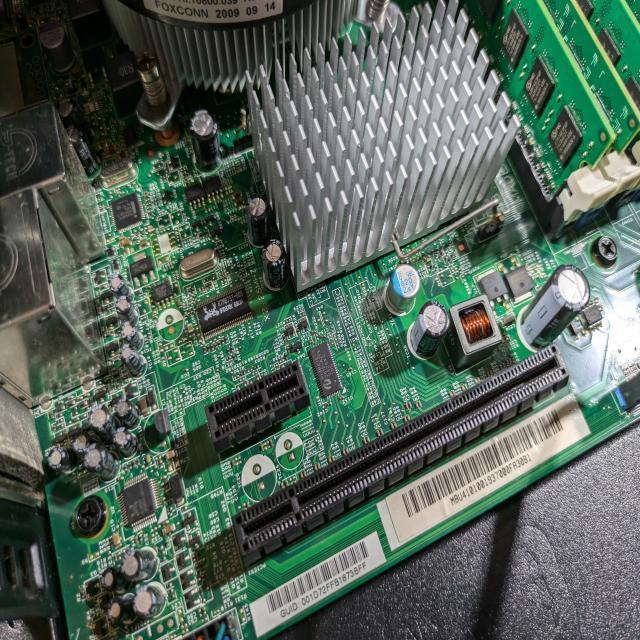CPU_Fan: (98, 0, 404, 132)
Mainboard: (0, 0, 640, 640)
RAM: (460, 0, 616, 204), (544, 0, 639, 155), (577, 0, 640, 111)
